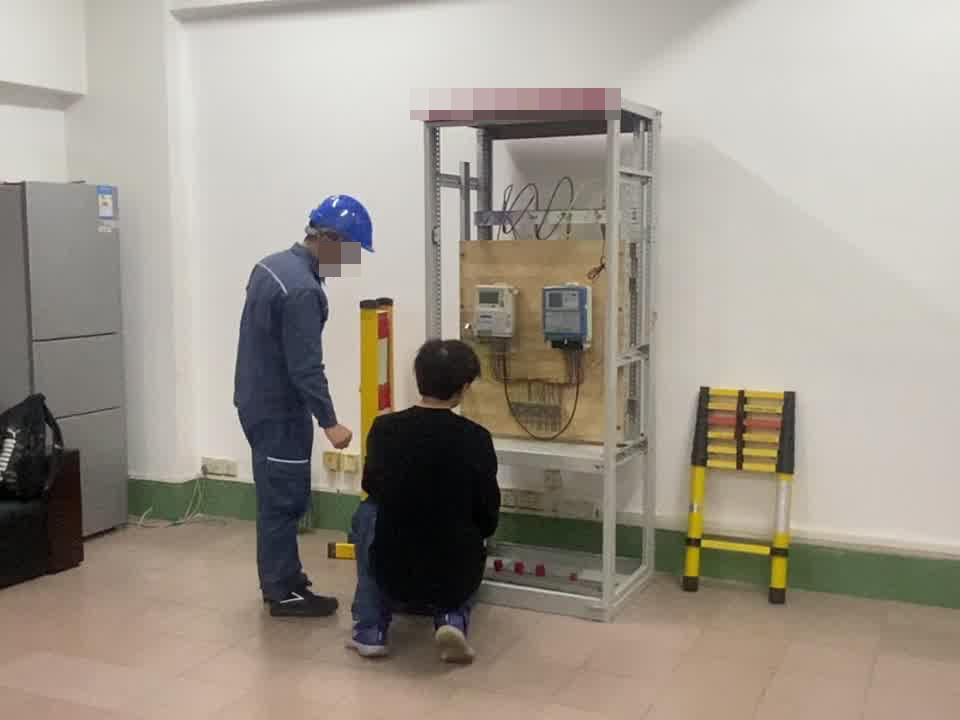downsuit: (250, 430, 311, 598)
halt: (306, 194, 374, 274)
hand: (327, 421, 356, 445)
inear: (313, 228, 345, 269)
noear: (453, 376, 479, 408)
person: (231, 193, 375, 621), (351, 336, 508, 665)
unhalt: (412, 338, 482, 405)
upcloth: (361, 411, 500, 622)
upsuit: (235, 251, 330, 422)
